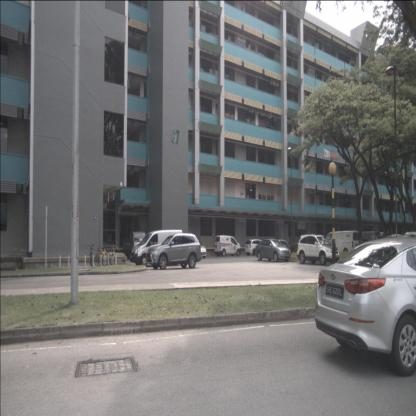vehicle-car: (315, 236, 415, 376), (146, 233, 202, 270), (129, 230, 183, 267), (296, 234, 340, 266), (322, 230, 359, 257), (255, 239, 291, 263), (359, 234, 391, 260), (214, 235, 241, 256), (356, 231, 381, 252), (288, 236, 312, 254), (244, 238, 267, 256), (189, 239, 207, 259), (273, 239, 292, 252)
vehicle-truck: (123, 231, 146, 259)
